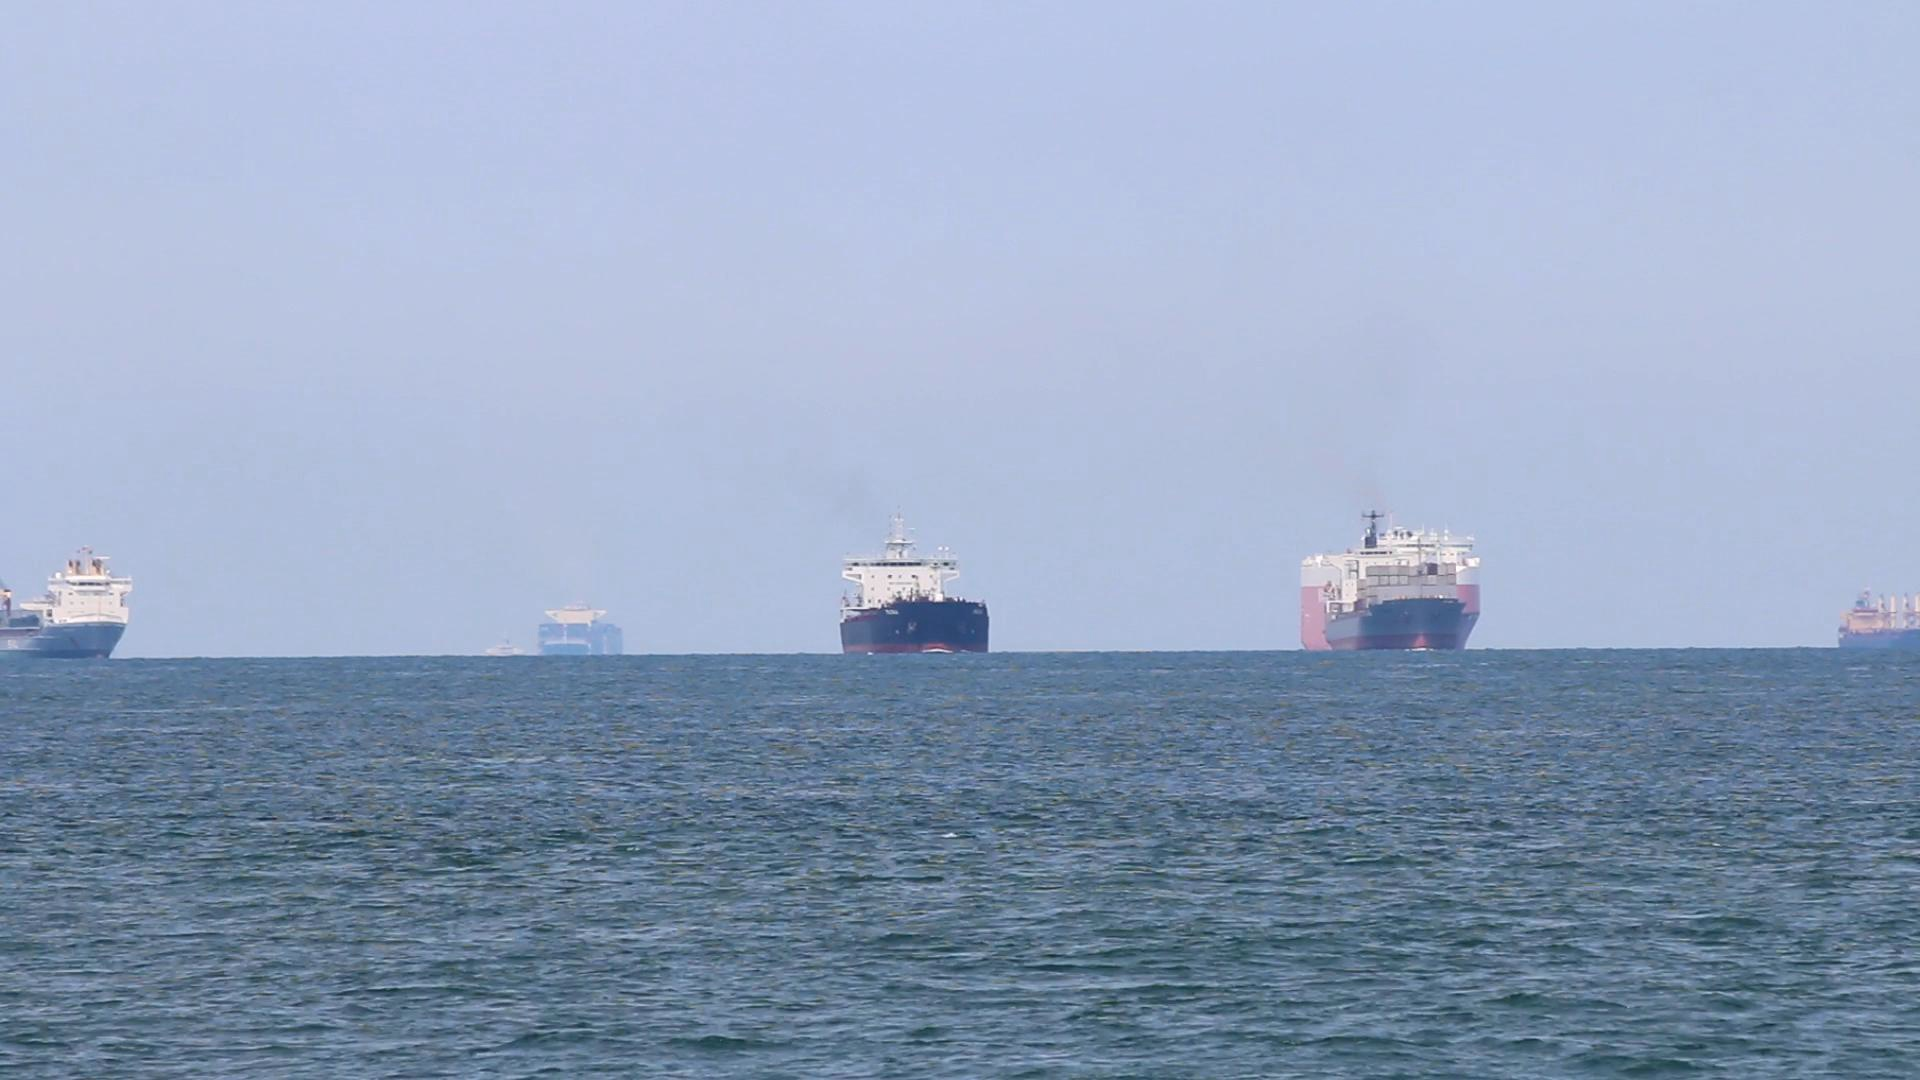Container Ship: (1295, 500, 1487, 661), (833, 502, 992, 658), (3, 545, 137, 662), (533, 599, 630, 661), (1834, 587, 1917, 654), (475, 634, 537, 663)
